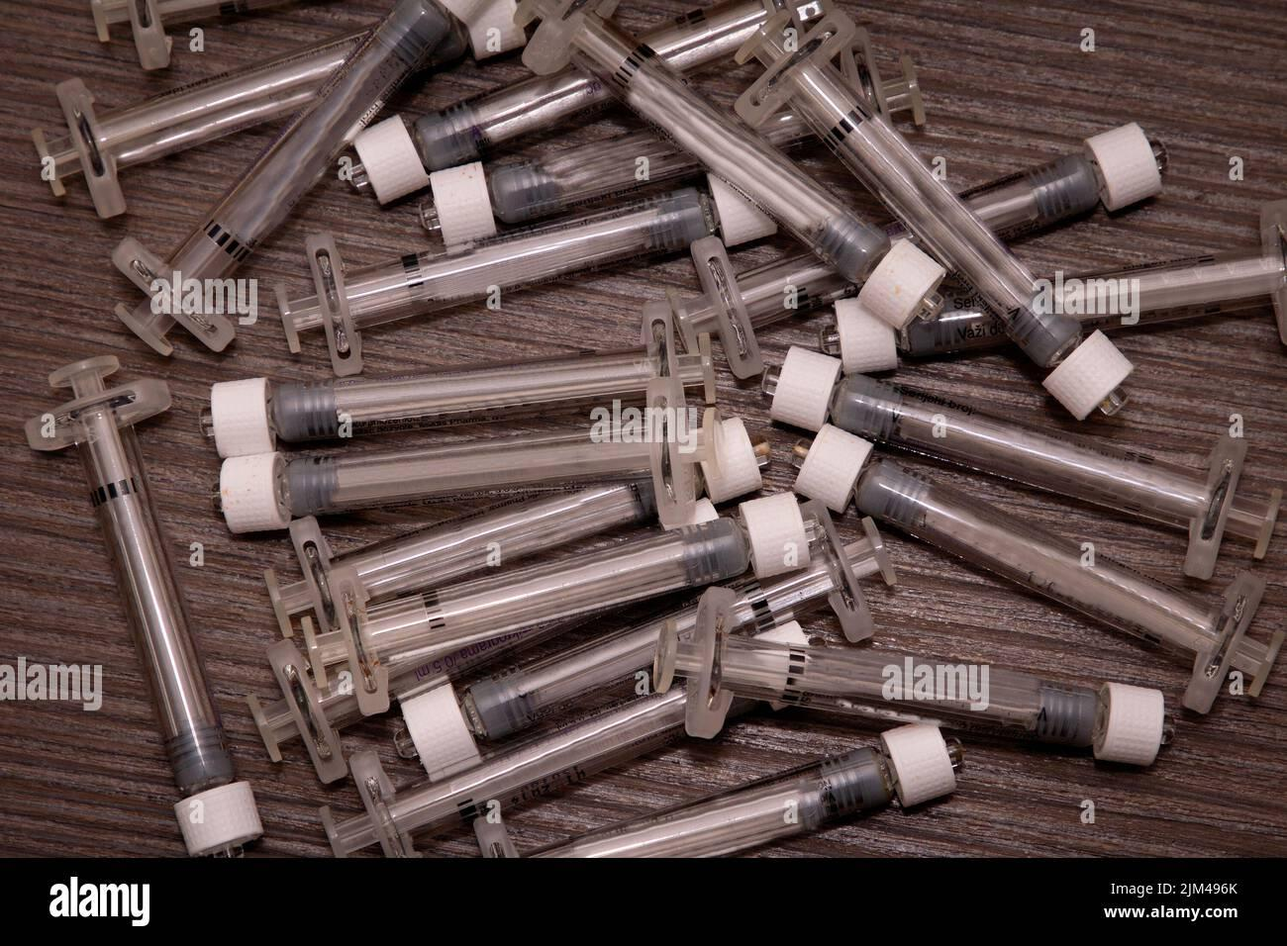Syringe: (737, 10, 1131, 418), (517, 0, 942, 314), (796, 444, 1286, 712), (306, 494, 871, 713), (113, 0, 462, 353), (762, 348, 1281, 578), (26, 356, 261, 855), (653, 589, 1170, 765), (307, 516, 766, 713), (216, 378, 766, 532), (278, 188, 717, 375), (201, 307, 714, 457), (33, 29, 368, 217), (32, 30, 366, 217), (320, 688, 684, 856), (264, 481, 654, 635), (529, 724, 962, 857), (389, 617, 664, 777), (1046, 201, 1286, 342), (451, 604, 696, 740), (353, 66, 612, 193), (420, 131, 702, 244), (673, 240, 856, 377), (247, 640, 364, 782), (91, 0, 293, 69)
